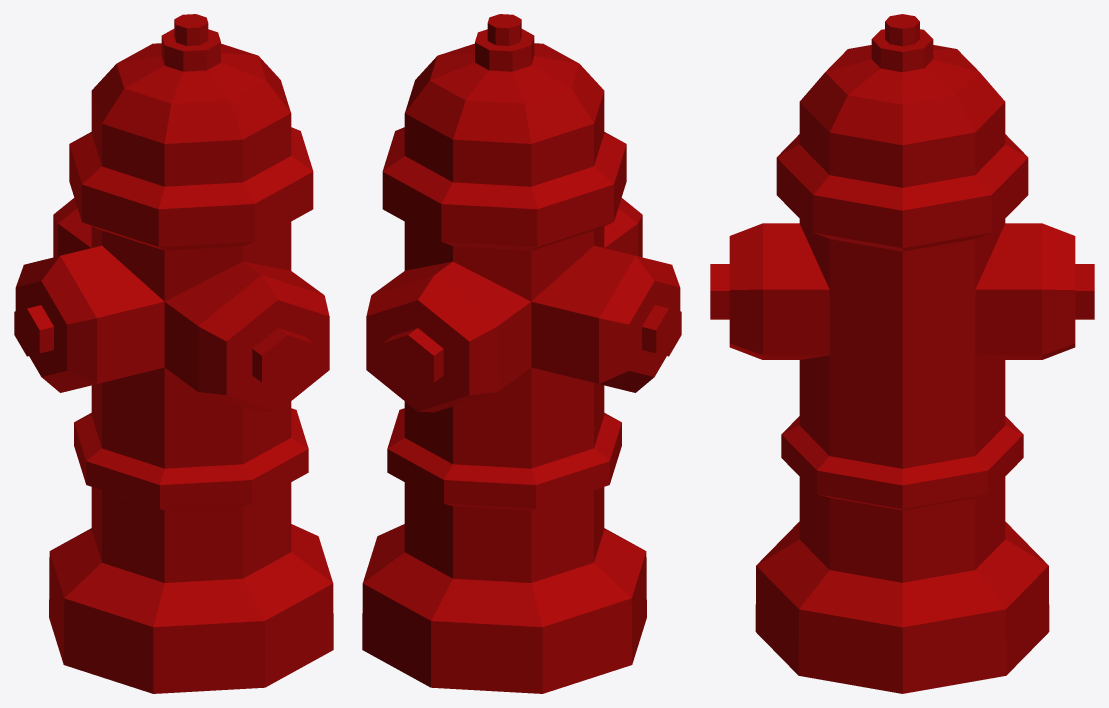
The model's file is FirePost.fbx.
3 renders of one model, left to right at view 1: azimuth 30°, elevation 25°; view 2: azimuth 150°, elevation 25°; view 3: azimuth 270°, elevation 25°, orthographic.
Parts seen in each view (by area): view 1: Cylinder.011; view 2: Cylinder.011; view 3: Cylinder.011.
Part boxes in pixels (x1,y1,x2,y2): Cylinder.011: (14,14,333,693); Cylinder.011: (362,14,681,693); Cylinder.011: (710,14,1094,693).
Size of the model in its own units: 53.15 by 107 by 60.8.
